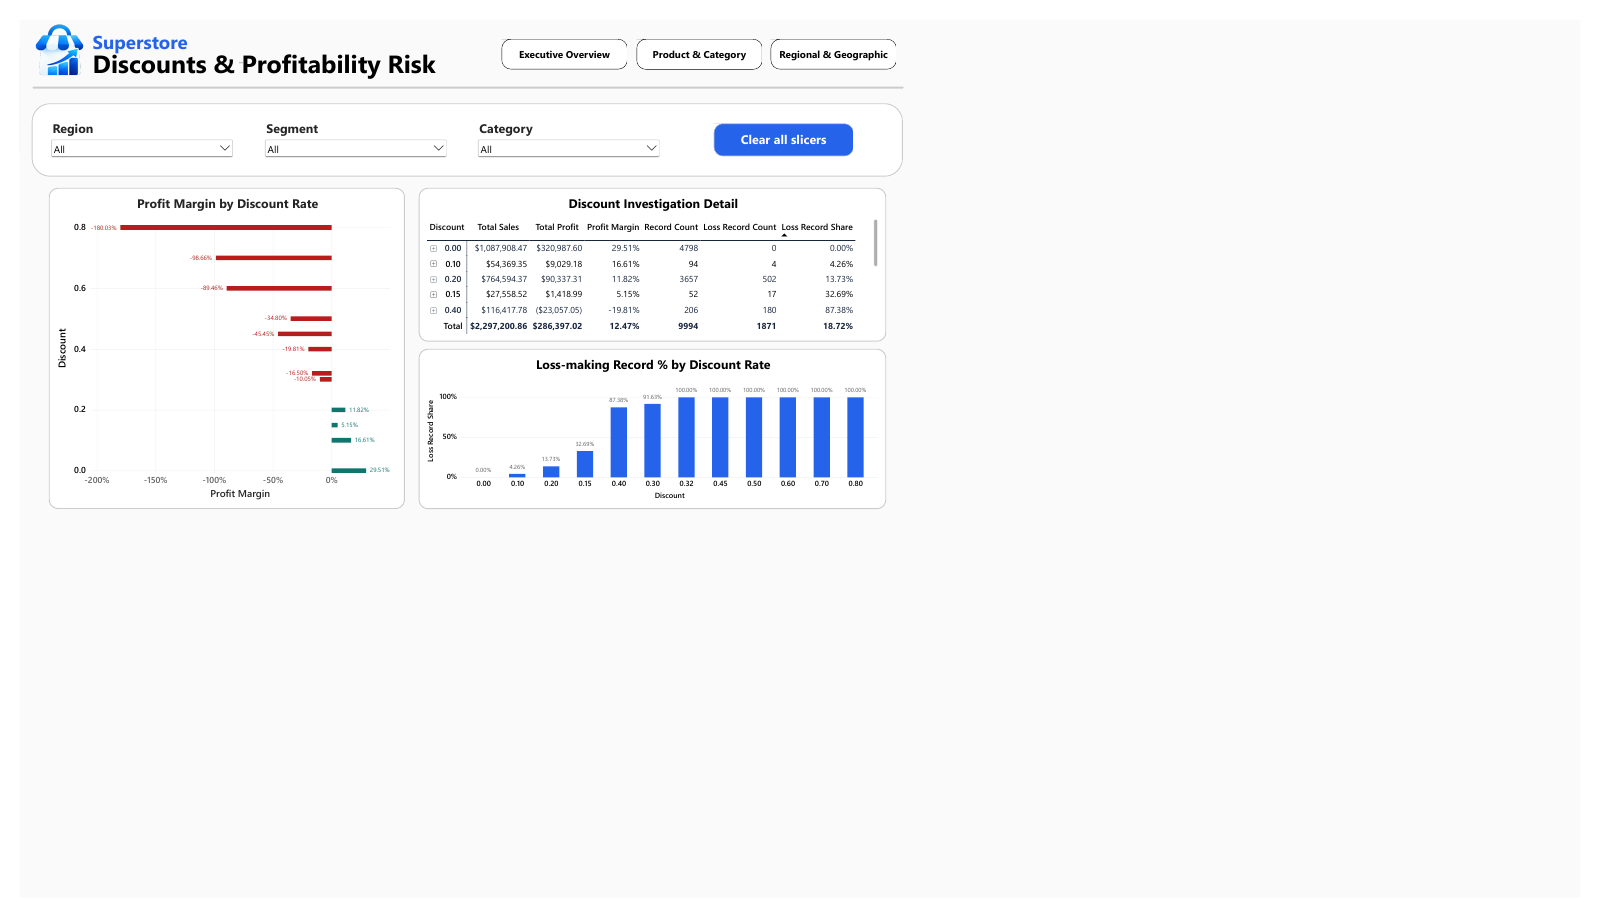

What the dashboard file says about the page in this screenshot:
{"tool":"powerbi","page":{"name":"Discounts & Profitability Risk","canvas":[1920,1080],"ordinal":3},"visuals":[{"type":"actionButton","box":[1033.6,42.5,270,65],"z":0},{"type":"shape","box":[25.5,180,1869,157.5],"z":0,"group":"g2"},{"type":"group","id":"g1","title":"Group 1","box":[157.5,21.2,750,110],"z":1000},{"type":"actionButton","box":[1323.9,42.5,270,65.5],"z":2000},{"type":"slicer","fields":{"Values":["Superstore.Region"]},"box":[62.7,215.4,400,90],"z":2000,"group":"g2"},{"type":"image","box":[0,0,173.5,132.7],"z":3000},{"type":"slicer","fields":{"Values":["Superstore.Segment"]},"box":[521.1,215.4,400,90],"z":3000,"group":"g2"},{"type":"actionButton","box":[1612.4,42.5,270,65],"z":4000},{"type":"slicer","fields":{"Values":["Superstore.Category"]},"box":[977.7,215.4,400,90],"z":4000,"group":"g2"},{"type":"shape","box":[28.3,111.5,1869,69],"z":5000},{"type":"actionButton","box":[1489.2,224.2,300,70],"z":5000,"group":"g2"},{"type":"clusteredBarChart","title":"Profit Margin by Discount Rate","fields":{"Category":["Superstore.Discount"],"Y":["Superstore.Profit Margin"]},"box":[62.8,361,764,689],"z":6000},{"type":"clusteredColumnChart","title":"Loss-making Record % by Discount Rate","fields":{"Category":["Superstore.Discount"],"Y":["Superstore.Loss Record Share"]},"box":[856.4,706.4,1002.9,343.6],"z":7000},{"type":"textbox","title":"Superstore","box":[157.5,21.2,322.2,73.3],"z":8000,"group":"g1"},{"type":"pivotTable","title":"Discount Investigation Detail","fields":{"Rows":["Superstore.Discount","Superstore.Sub-Category"],"Values":["Superstore.Total Sales","Superstore.Total Profit","Superstore.Profit Margin","Superstore.Record Count","Superstore.Loss Record Count","Superstore.Loss Record Share"]},"box":[856.4,361,1002.9,329.7],"z":8000},{"type":"group","id":"g2","title":"Group 2","box":[25.5,180,1869.1,156.4],"z":9000},{"type":"textbox","title":"Discounts & Profitability Risk","box":[157.5,57.9,750,73.3],"z":17001,"group":"g1"}]}

Visuals, with their boxes in screenshot pixels (x1, y1, x2, y2), scaled from the page's 1920x1080 canvas onto the 1600x918 screenshot:
actionButton: select_region(861, 36, 1086, 91)
shape: select_region(21, 153, 1579, 287)
"Group 1" group: select_region(131, 18, 756, 112)
actionButton: select_region(1103, 36, 1328, 92)
slicer - Superstore.Region: select_region(52, 183, 386, 260)
image: select_region(0, 0, 145, 113)
slicer - Superstore.Segment: select_region(434, 183, 768, 260)
actionButton: select_region(1344, 36, 1569, 91)
slicer - Superstore.Category: select_region(815, 183, 1148, 260)
shape: select_region(24, 95, 1581, 153)
actionButton: select_region(1241, 191, 1491, 250)
"Profit Margin by Discount Rate" clusteredBarChart: select_region(52, 307, 689, 892)
"Loss-making Record % by Discount Rate" clusteredColumnChart: select_region(714, 600, 1549, 892)
"Superstore" textbox: select_region(131, 18, 400, 80)
"Discount Investigation Detail" pivotTable: select_region(714, 307, 1549, 587)
"Group 2" group: select_region(21, 153, 1579, 286)
"Discounts & Profitability Risk" textbox: select_region(131, 49, 756, 112)
